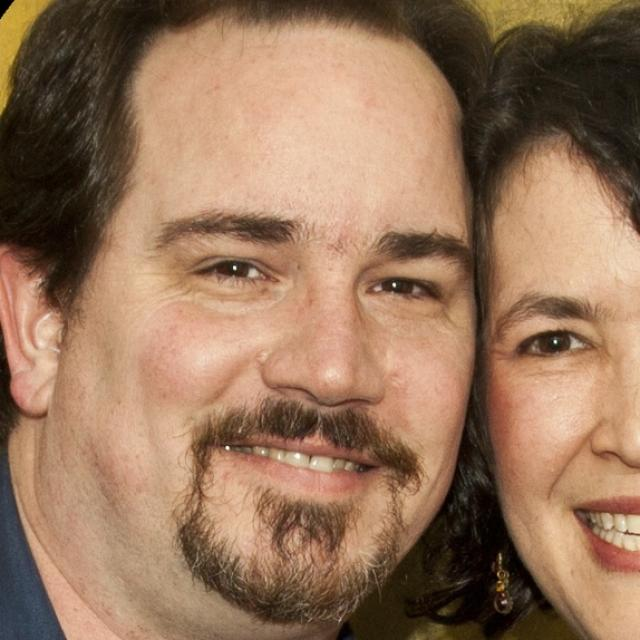Normal: (63, 21, 476, 607)
